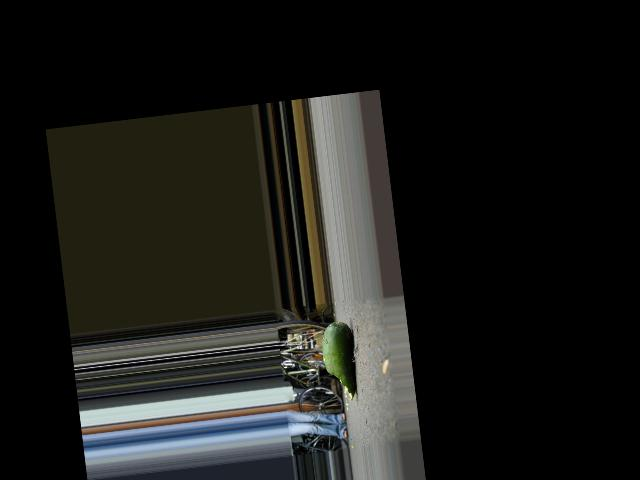cucumber: (319, 320, 359, 404)
